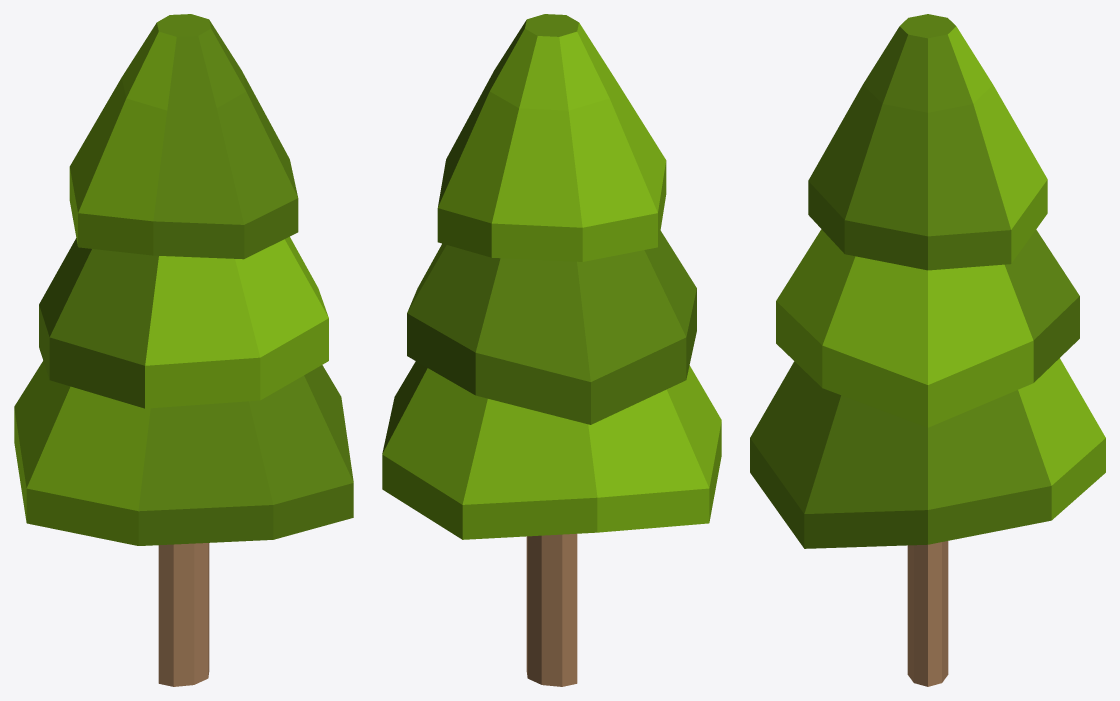
Rendered from sTANDRAD_TREE1.fbx.
3 views of the same model, side by side, from view 1: azimuth 30°, elevation 25°; view 2: azimuth 150°, elevation 25°; view 3: azimuth 270°, elevation 25° (orthographic).
Visible parts, largest first — view 1: Cube; view 2: Cube; view 3: Cube.
Part boxes in pixels (bbox=[...]): Cube: bbox=[14, 14, 353, 686]; Cube: bbox=[382, 14, 721, 686]; Cube: bbox=[750, 14, 1105, 686].
Size of the model in its own units: 305 by 603 by 300.
